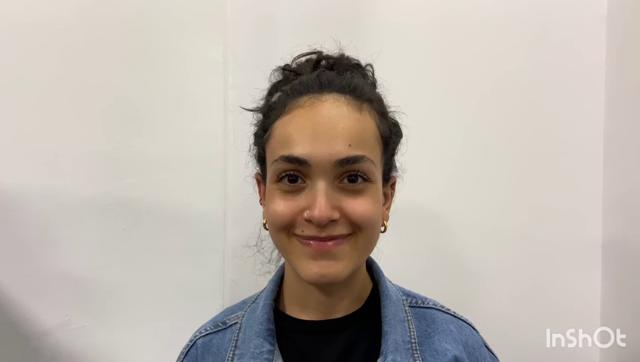senang: (263, 94, 383, 284)
